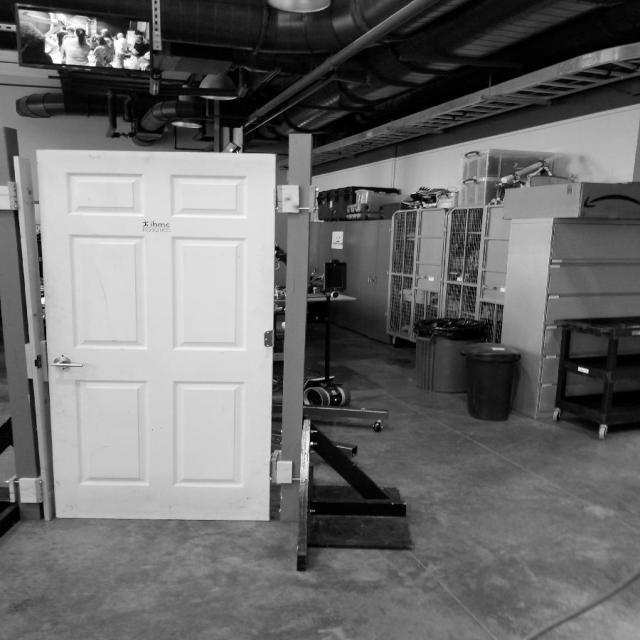door: (31, 147, 283, 526), (48, 356, 82, 374)
